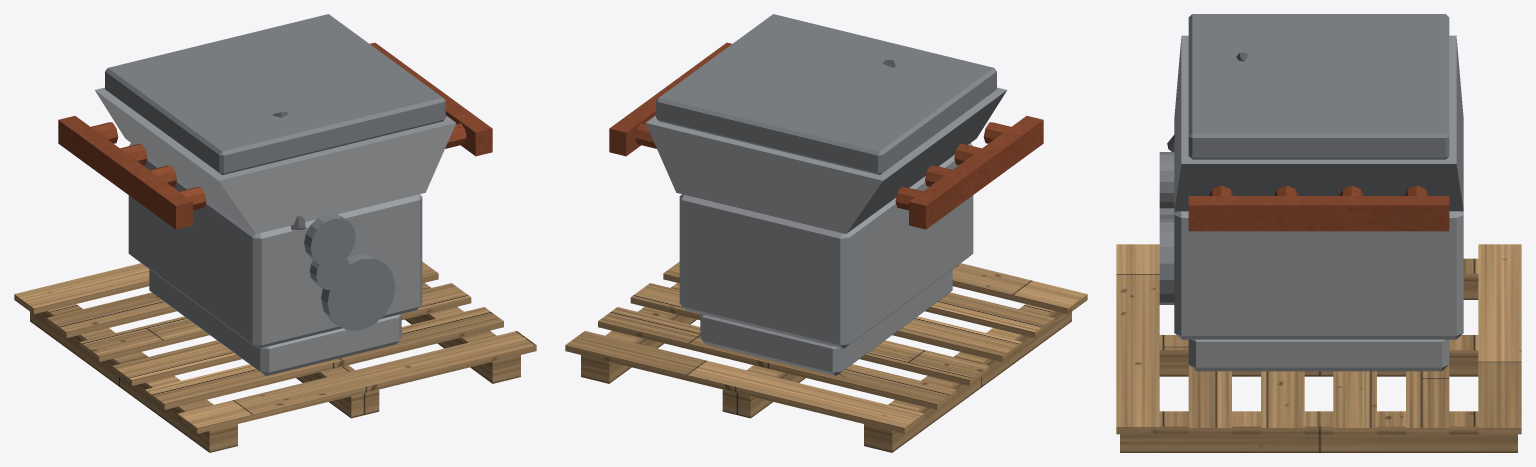
The model's file is engine_pallet.glb.
The picture shows the model from 3 angles, left to right: view 1: azimuth 30°, elevation 25°; view 2: azimuth 150°, elevation 25°; view 3: azimuth 270°, elevation 25°; orthographic projection. The views are drawn at different scales.
Parts seen in each view (by area): view 1: engine_pallet_engine, engine_pallet_steel_d, engine_pallet_pallet, engine_pallet_rust; view 2: engine_pallet_engine, engine_pallet_pallet, engine_pallet_steel_d, engine_pallet_rust; view 3: engine_pallet_engine, engine_pallet_pallet, engine_pallet_steel_d, engine_pallet_rust.
Boxes of the visible parts, x1,y1,x2,y2 form: engine_pallet_engine: (95,87,455,375); engine_pallet_steel_d: (105,14,445,330); engine_pallet_pallet: (14,261,536,452); engine_pallet_rust: (58,42,492,229); engine_pallet_engine: (646,87,1006,375); engine_pallet_pallet: (565,261,1087,452); engine_pallet_steel_d: (656,14,996,174); engine_pallet_rust: (609,42,1043,229); engine_pallet_engine: (1174,35,1463,371); engine_pallet_pallet: (1116,244,1521,452); engine_pallet_steel_d: (1159,14,1449,304); engine_pallet_rust: (1188,185,1449,231).
Size of the model in its own units: 1.2 by 0.9141 by 1.12.
5 materials, 2 textured.
